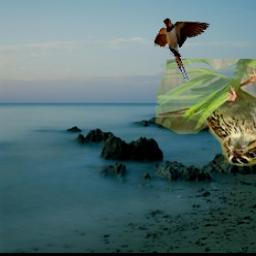Sparrow: (154, 59, 256, 166)
Swallow: (154, 18, 210, 79)
